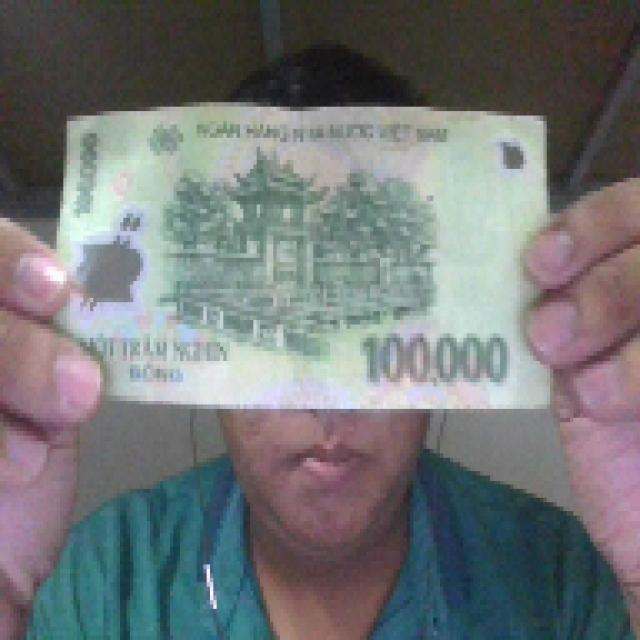100 000 VND: (46, 92, 560, 412)
